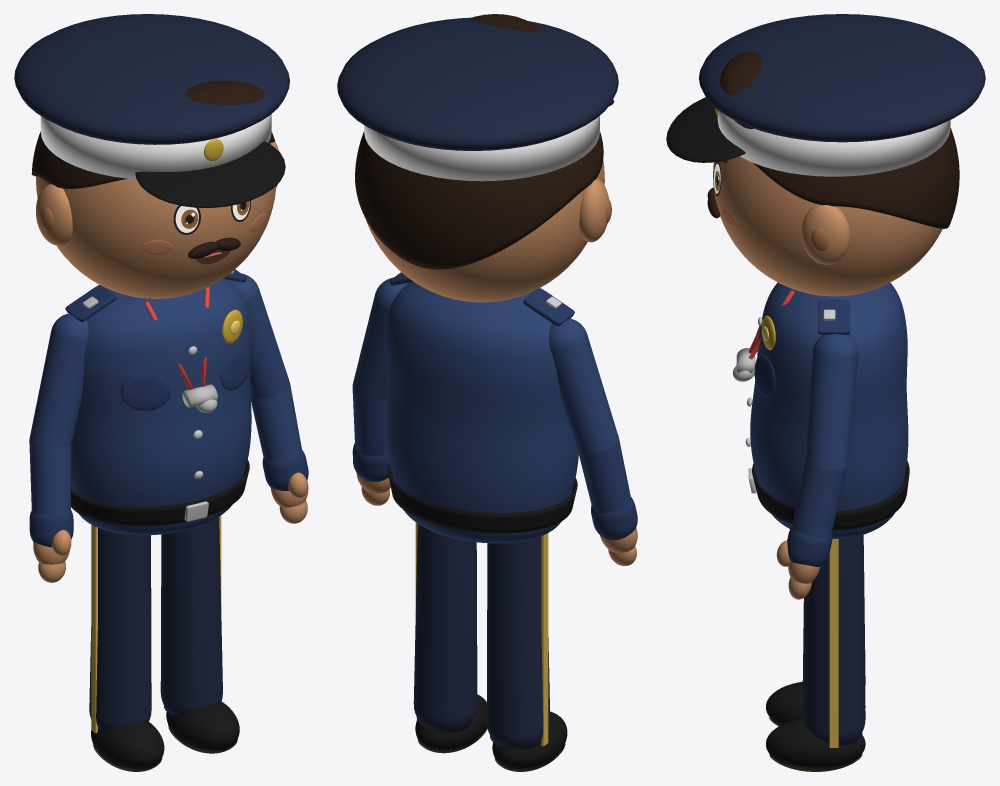
The model's file is agent.glb.
3 views of the same model, side by side, from view 1: azimuth 30°, elevation 25°; view 2: azimuth 150°, elevation 25°; view 3: azimuth 270°, elevation 25° (orthographic). The views are drawn at different scales.
Visible parts, largest first — view 1: agent_romp, agent_pet_bol, agent_hoofd, agent_been_L, agent_been_R, agent_pet_band, agent_pet_klep, agent_bovenarm_R, agent_bovenarm_L, agent_riem, agent_onderarm_R, agent_onderarm_L (+12 smaller); view 2: agent_romp, agent_pet_bol, agent_haar, agent_been_L, agent_been_R, agent_hoofd, agent_pet_band, agent_bovenarm_R, agent_riem, agent_bovenarm_L, agent_onderarm_R, agent_onderarm_L (+8 smaller); view 3: agent_pet_bol, agent_romp, agent_hoofd, agent_been_L, agent_haar, agent_pet_band, agent_bovenarm_L, agent_pet_klep, agent_schoen_L, agent_onderarm_L, agent_riem, agent_oor_L (+6 smaller).
Boxes of the visible parts, x1,y1,x2,y2 form: agent_romp: (71,278,251,535); agent_pet_bol: (14,14,289,144); agent_hoofd: (36,143,275,298); agent_been_L: (160,517,222,714); agent_been_R: (89,528,151,729); agent_pet_band: (40,114,271,179); agent_pet_klep: (135,141,285,207); agent_bovenarm_R: (30,313,88,447); agent_bovenarm_L: (227,273,289,397); agent_riem: (71,460,249,526); agent_onderarm_R: (29,439,71,514); agent_onderarm_L: (250,385,301,460); agent_romp: (385,281,578,543); agent_pet_bol: (337,17,618,150); agent_haar: (355,132,603,269); agent_been_L: (413,524,477,730); agent_been_R: (486,536,550,747); agent_hoofd: (366,159,604,302); agent_pet_band: (364,115,599,181); agent_bovenarm_R: (549,318,618,453); agent_riem: (388,464,577,533); agent_bovenarm_L: (353,277,408,400); agent_onderarm_R: (577,440,631,512); agent_onderarm_L: (352,386,388,456); agent_pet_bol: (699,14,985,142); agent_romp: (750,282,908,538); agent_hoofd: (713,156,942,296); agent_been_L: (802,535,865,743); agent_haar: (753,128,959,228); agent_pet_band: (717,111,950,176); agent_bovenarm_L: (805,334,858,473); agent_pet_klep: (666,97,745,162); agent_schoen_L: (766,719,865,767); agent_onderarm_L: (792,462,846,537); agent_riem: (752,461,909,530); agent_oor_L: (801,204,849,264).
Bounding box in the file's own units: 0.7706 × 1.87 × 0.7747.
